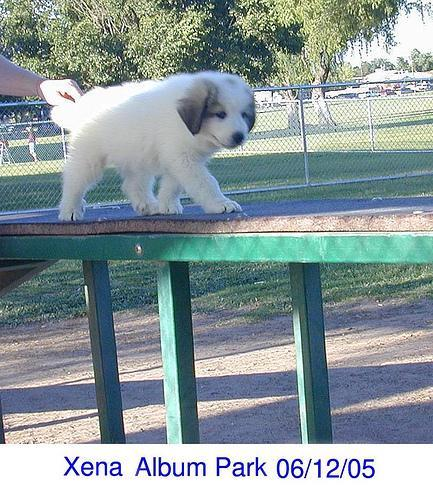Great_Pyrenees: (47, 71, 257, 223)
